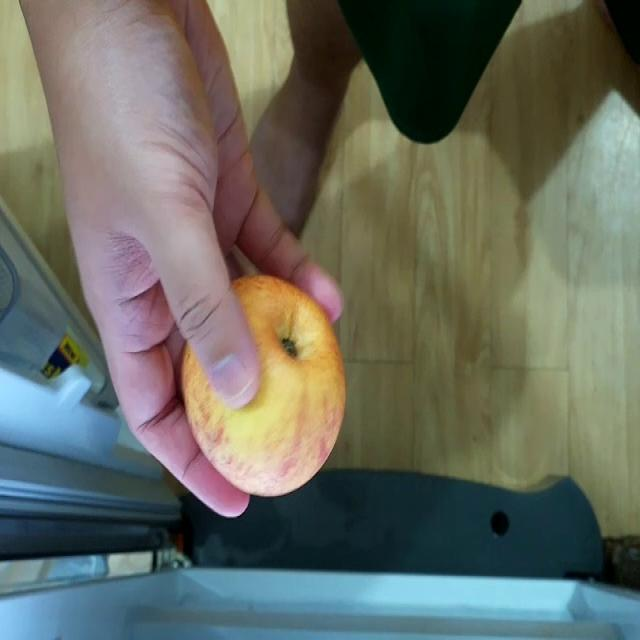apple: (182, 276, 346, 495)
